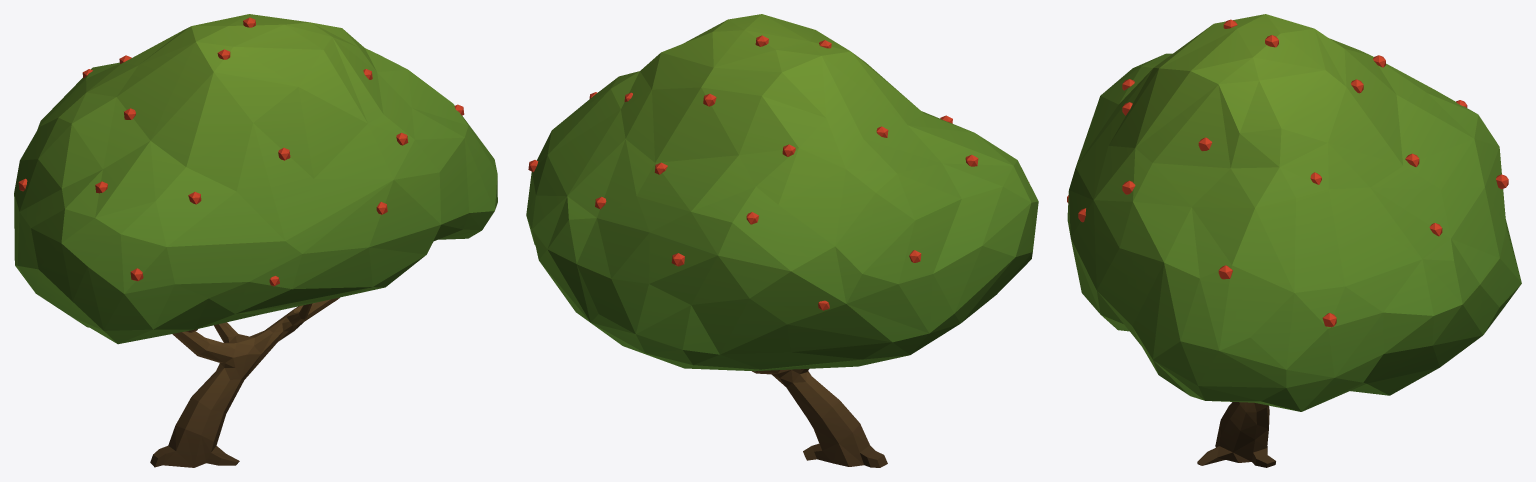
Rendered from Tree_04.glb.
The picture shows the model from 3 angles, left to right: view 1: azimuth 30°, elevation 25°; view 2: azimuth 150°, elevation 25°; view 3: azimuth 270°, elevation 25°; orthographic projection. The views are drawn at different scales.
Parts seen in each view (by area): view 1: Tree_04_LOD0; view 2: Tree_04_LOD0; view 3: Tree_04_LOD0.
Part boxes in pixels (x1,y1,x2,y2): Tree_04_LOD0: (14,14,497,467); Tree_04_LOD0: (526,14,1038,467); Tree_04_LOD0: (1067,14,1521,467).
Size of what is drawn, in the model's own units: 6.5 by 5.62 by 5.09.
Materials: 1 (1 with a texture image).
